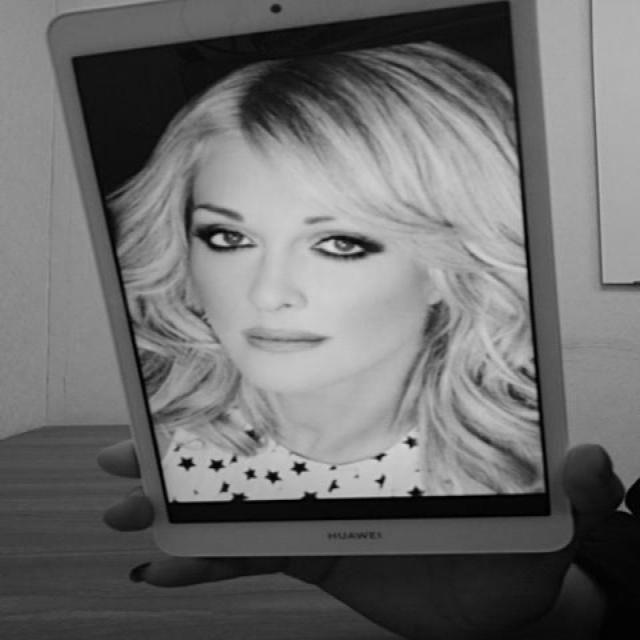fake: (46, 4, 587, 570)
